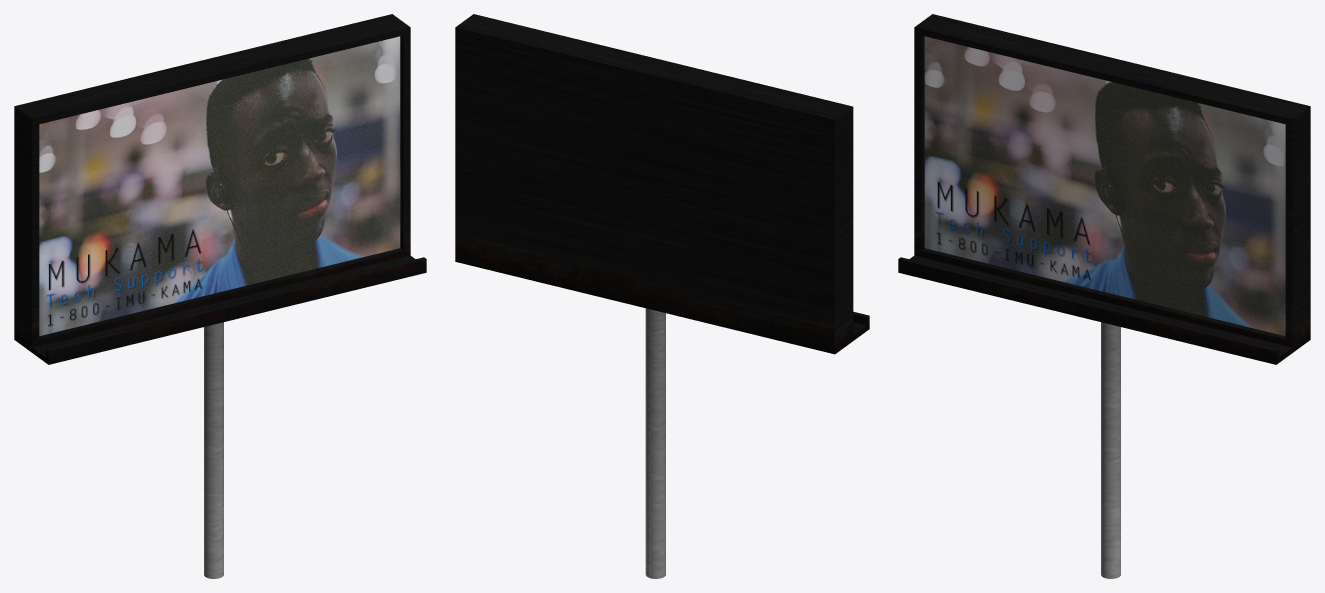
File: billboard1.fbx
The picture shows the model from 3 angles, left to right: view 1: azimuth 30°, elevation 25°; view 2: azimuth 150°, elevation 25°; view 3: azimuth 330°, elevation 25°; orthographic projection.
Visible parts, largest first — view 1: billboard; view 2: billboard; view 3: billboard.
Boxes of the visible parts, box(x1,y1,x2,y2) form: billboard: box(14, 14, 426, 578); billboard: box(455, 14, 869, 578); billboard: box(898, 14, 1310, 578).
Bounding box in the file's own units: 12 × 15.37 × 1.89.
